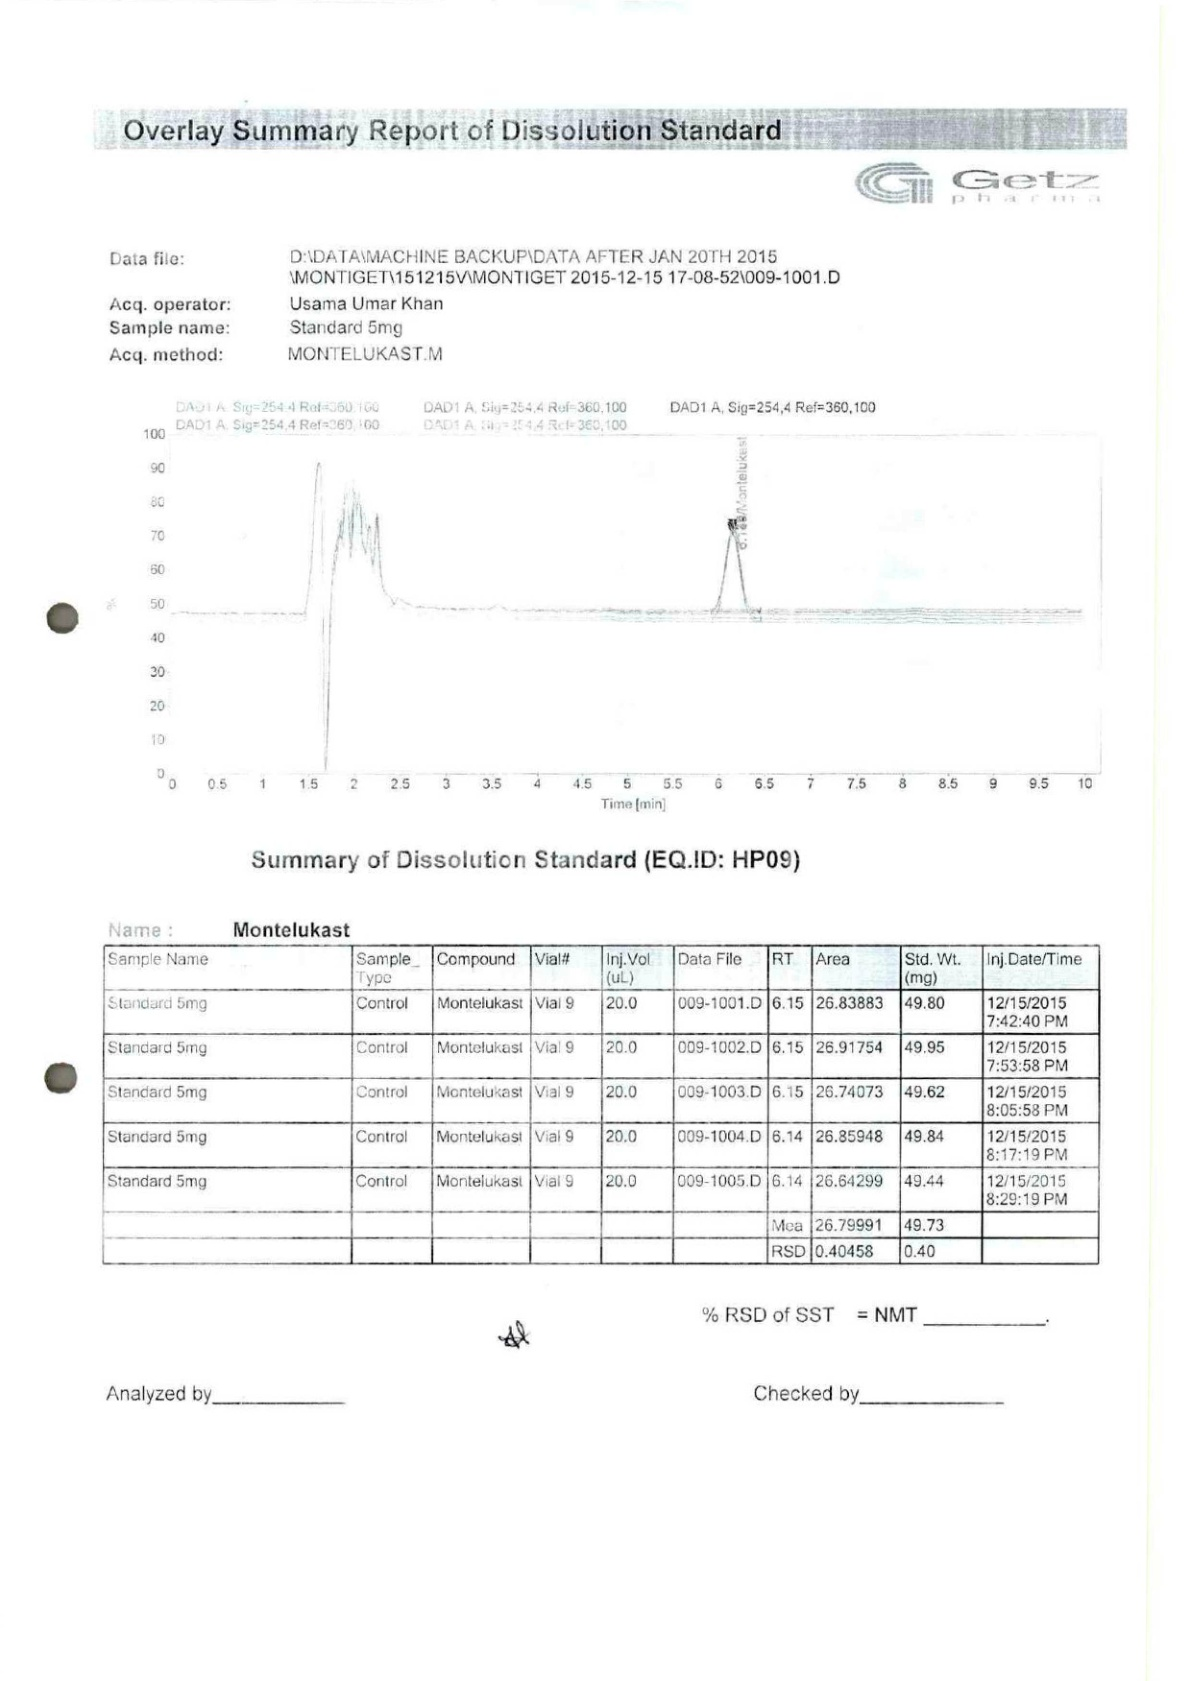full_lined: (102, 944, 1101, 1265)
nolines: (107, 248, 842, 367)
